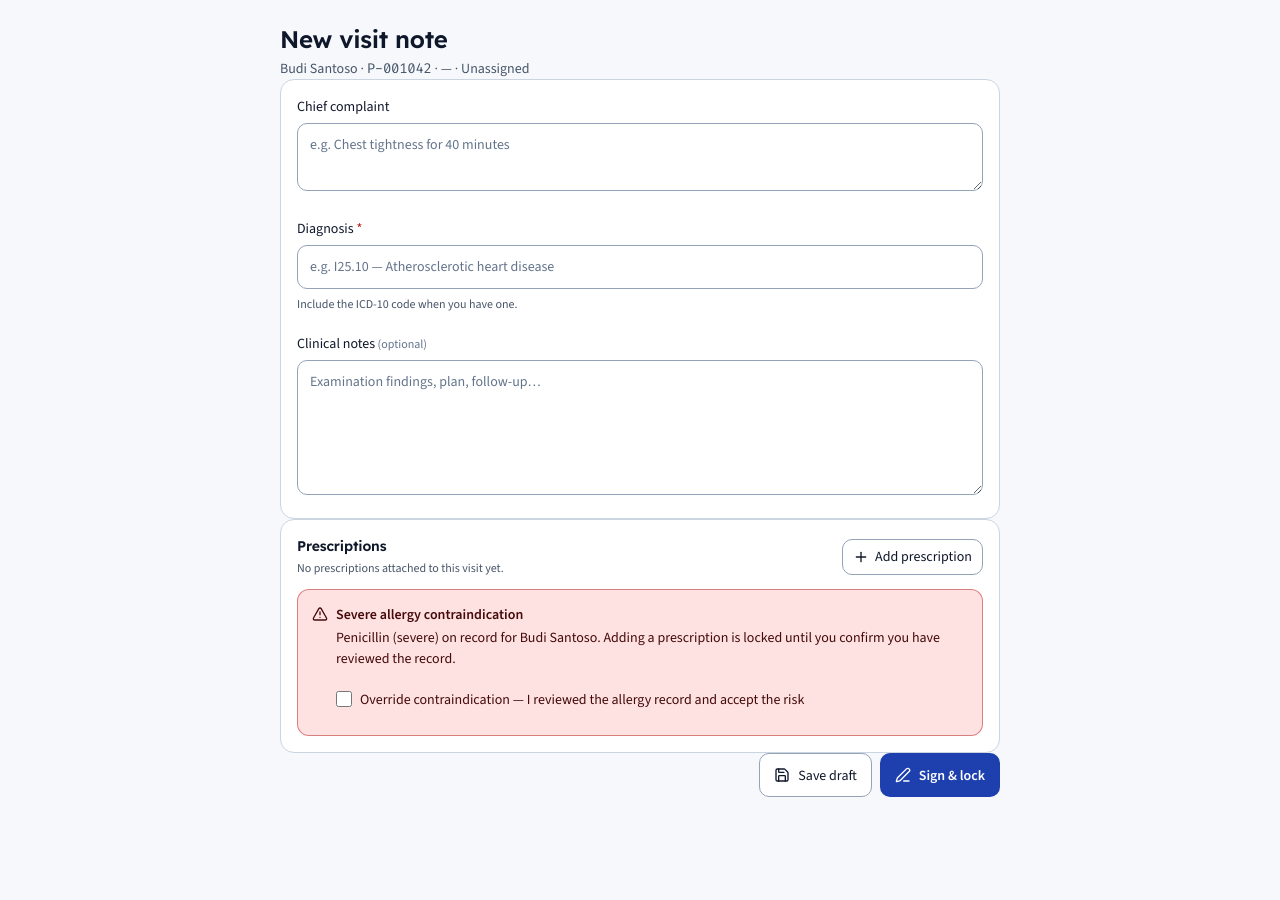
it: Medical record entry wiring (#29/#51) › reports a password-confirmation failure when signing
Step 1. Type "Chest tightness" into the text box labelled "Chief complaint" → (640, 157), box [297,123,983,190]
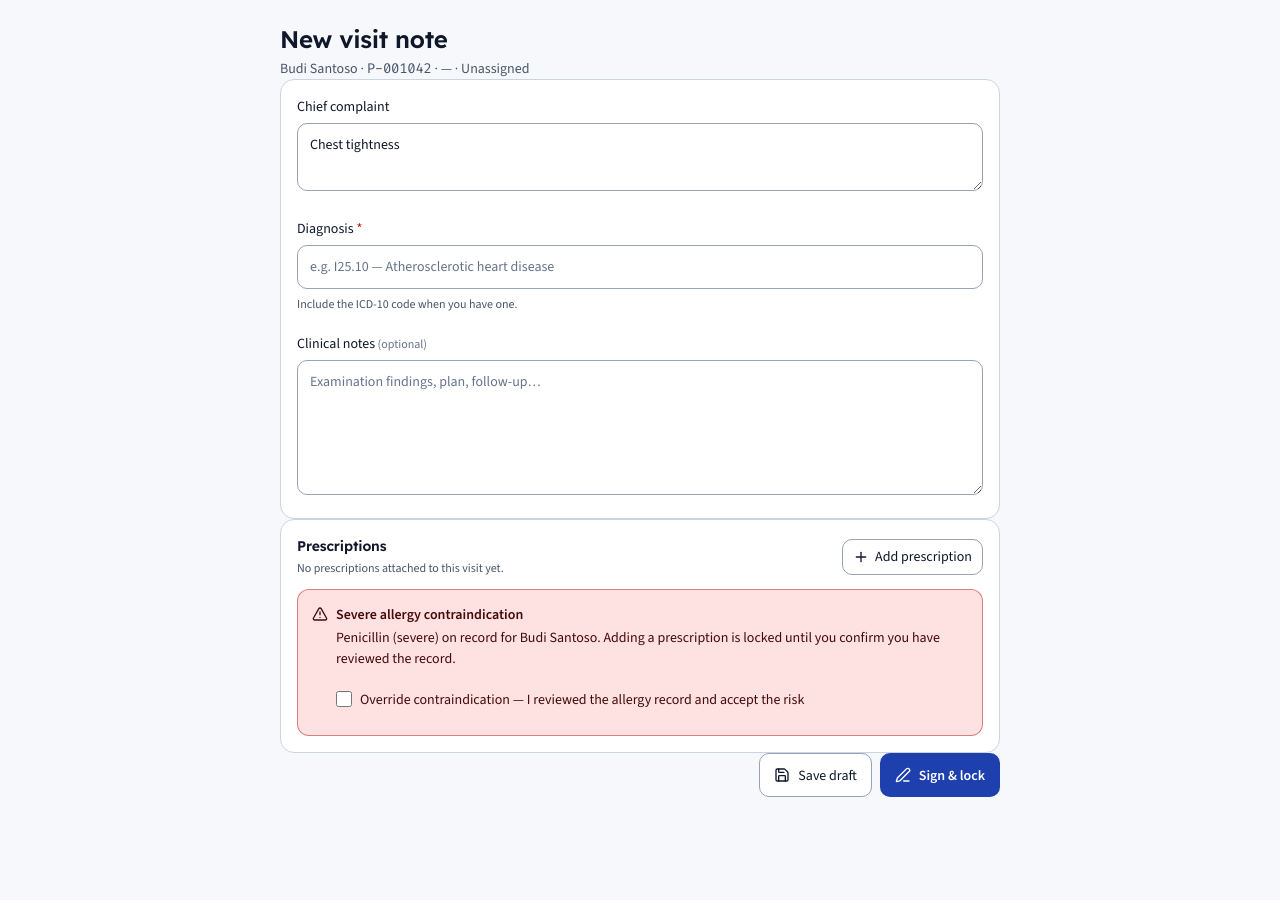
Step 2. Type "I25.10" into the field labelled "Diagnosis *" → (640, 266), box [297,244,983,288]
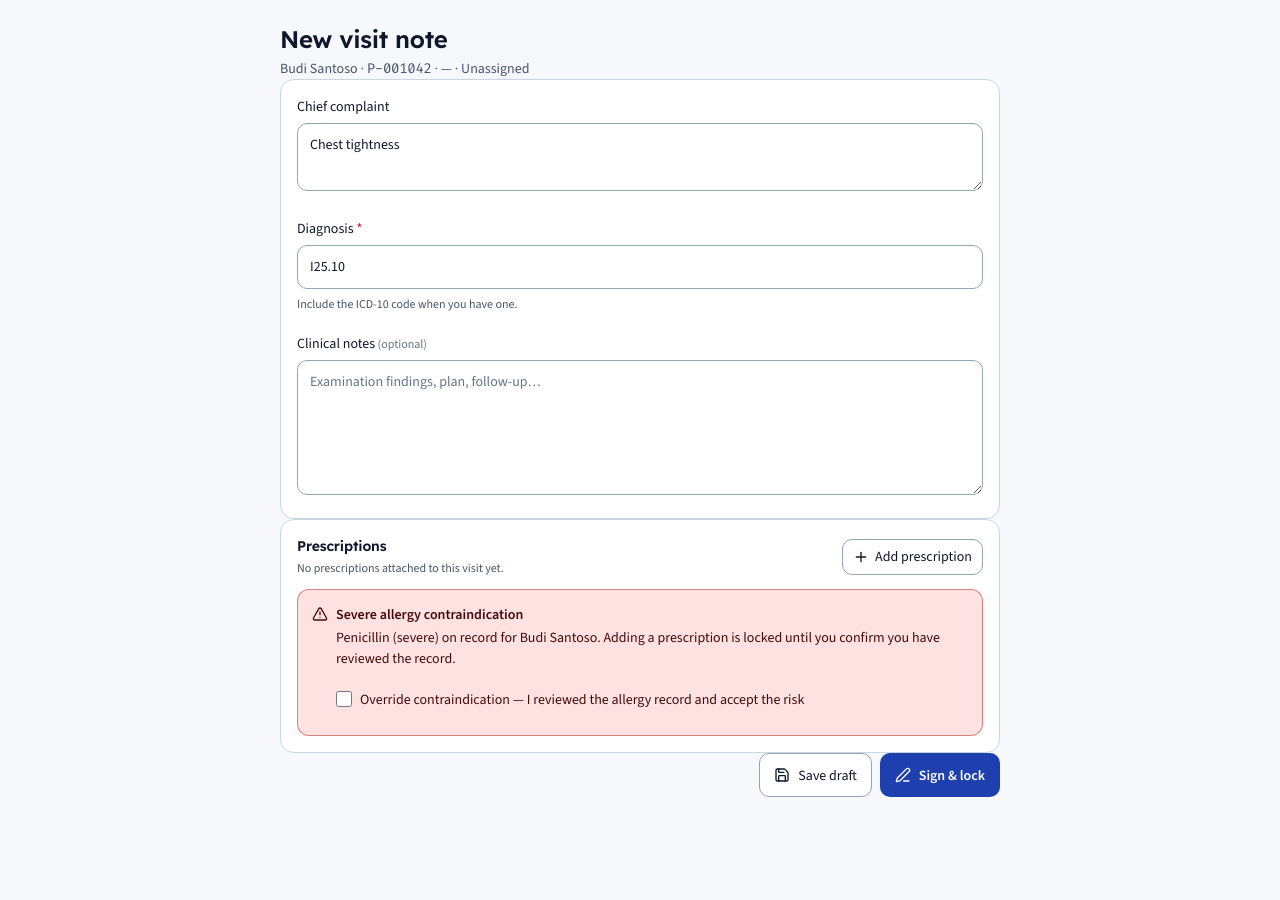
Step 3. Click the button with test id "sign-lock" → (940, 775), box [880,753,1000,797]
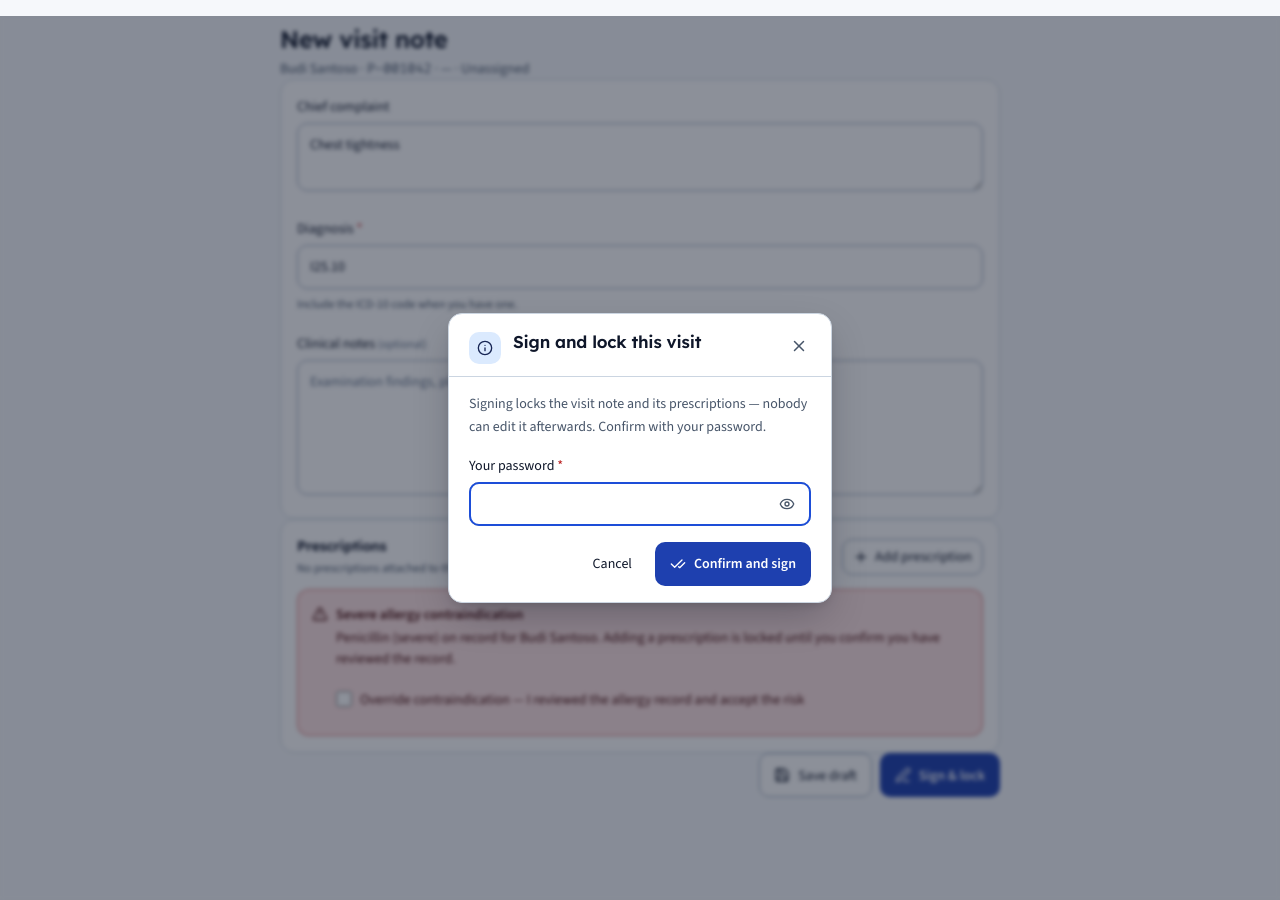
Step 4. Type "wrong-pass" into the password field labelled "Your password *" → (640, 504), box [469,482,811,526]
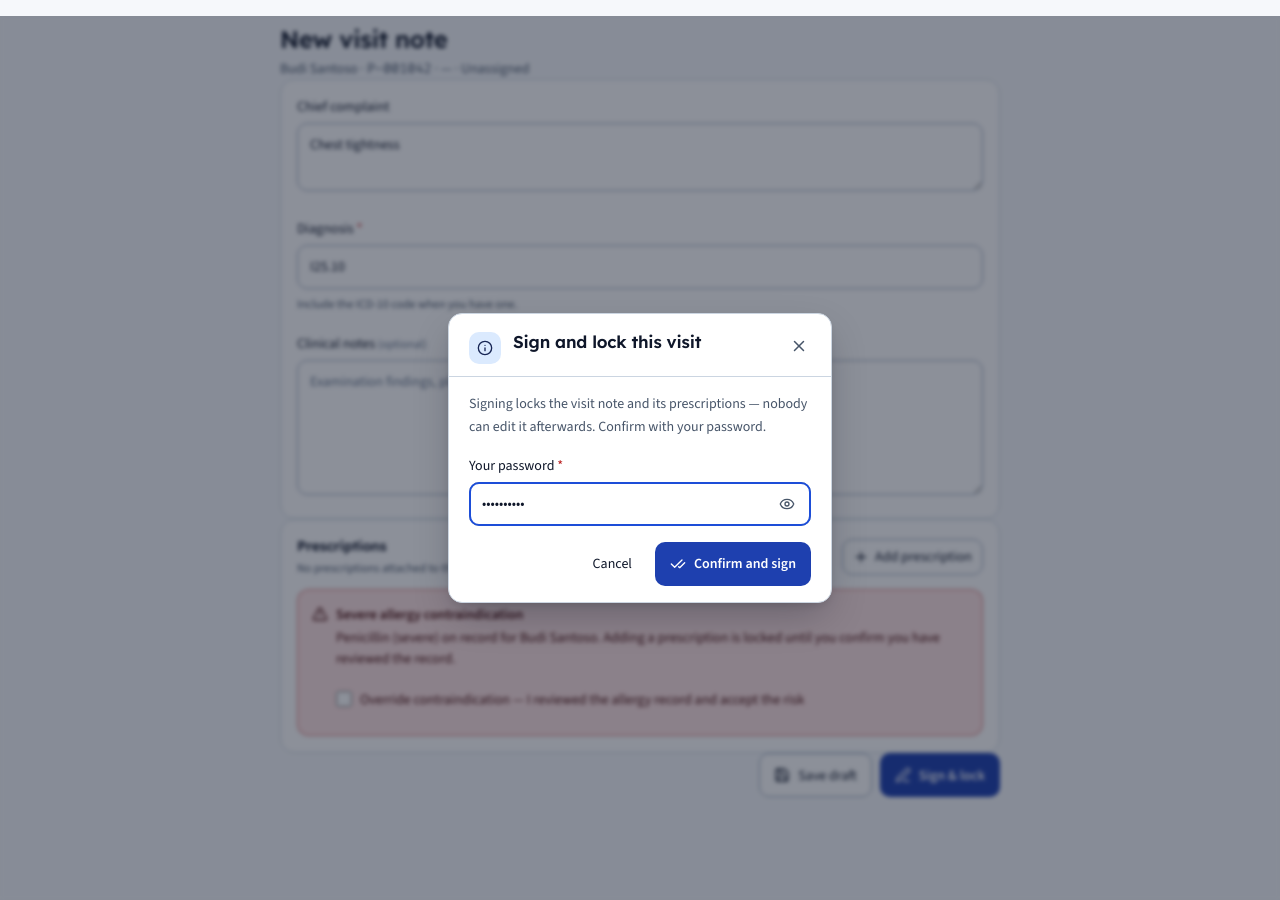
Step 5. Click the button with test id "confirm-sign" → (733, 564), box [655,542,811,586]
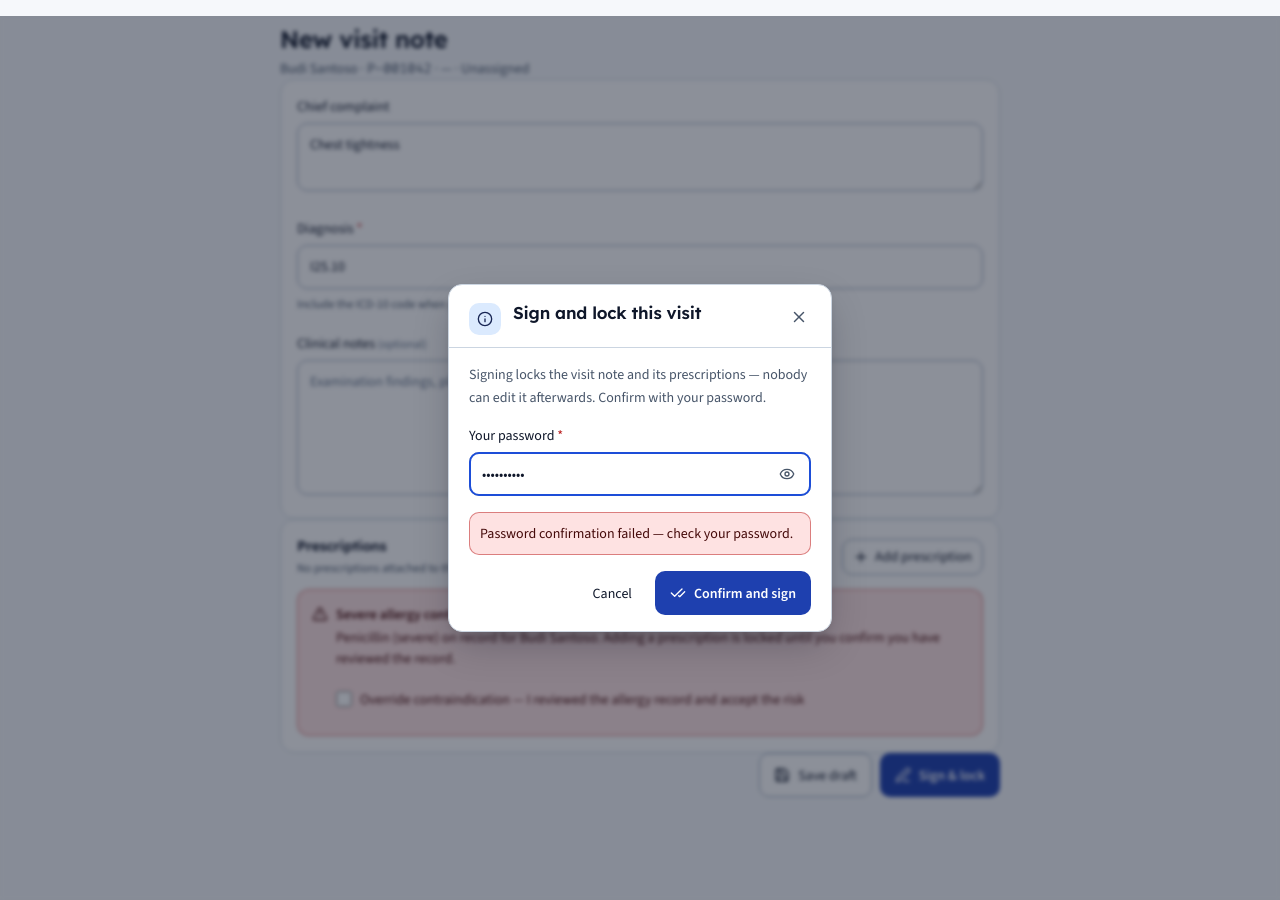
Expected: the message with test id "sign-error" shows "Password confirmation failed", [480,524,793,543]
